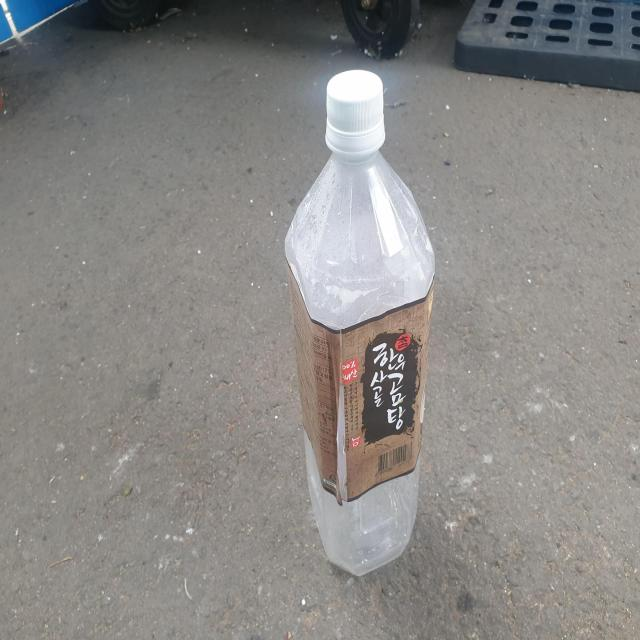plastic: (285, 68, 435, 576)
